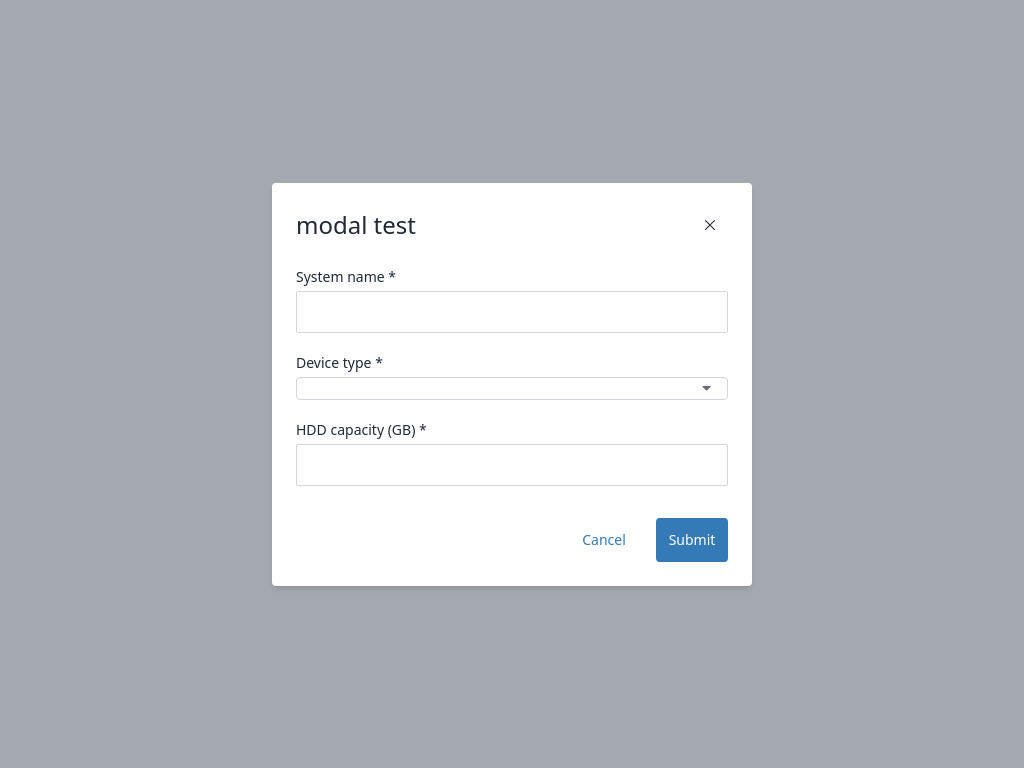
Test: Modal Molecule › numeric error when HDD capacity is not a number
Click the button "Submit" at (692, 540), box [656,518,728,562]
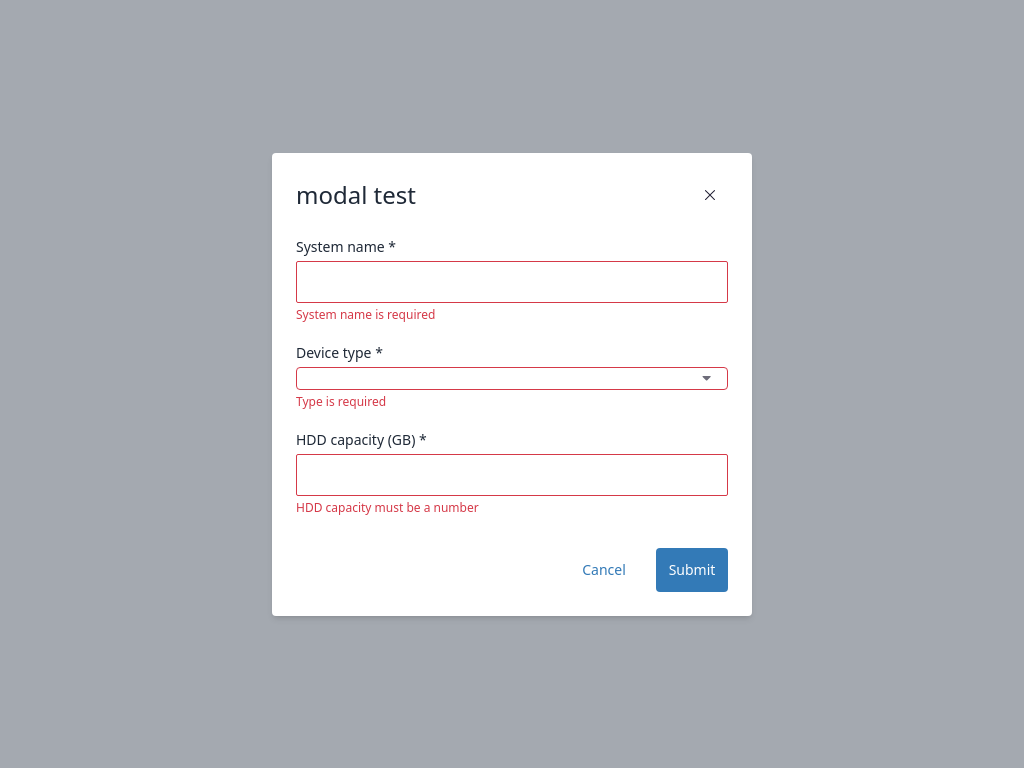
expect the text "HDD capacity must be a number" is shown: met, box [296,498,479,516]
